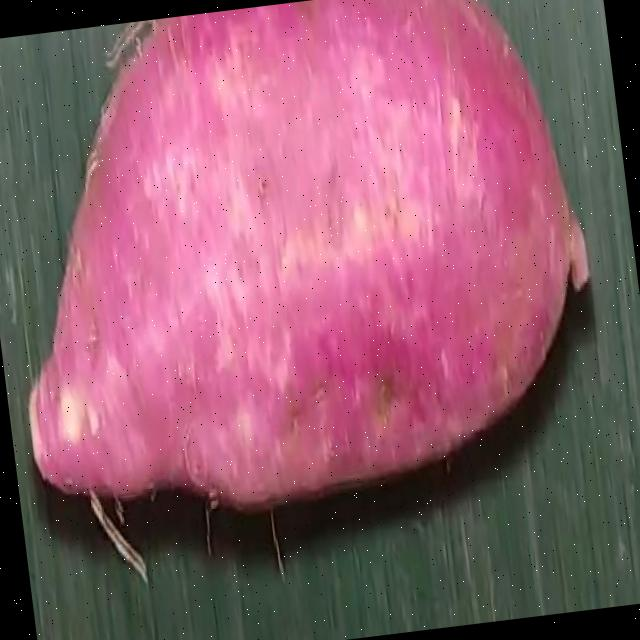Sweet Potato: (29, 0, 589, 515)
